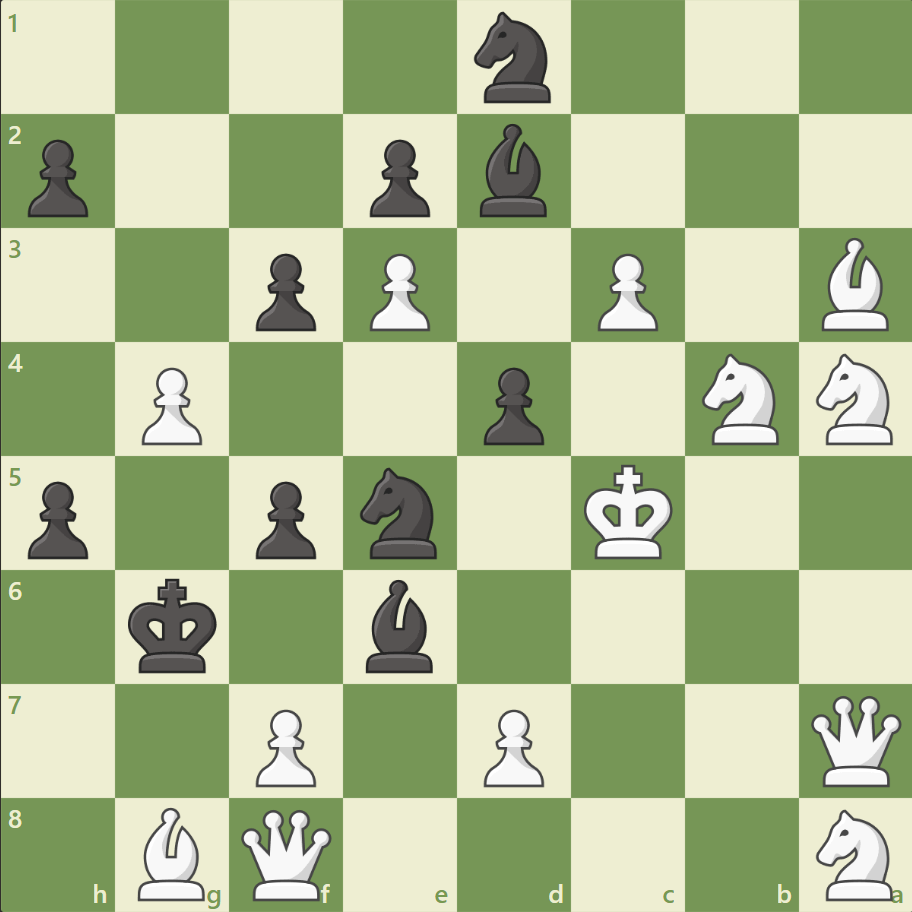B: (131, 801, 215, 904), (812, 233, 896, 336)
K: (579, 458, 679, 566)
N: (806, 802, 903, 904), (806, 348, 903, 450), (692, 348, 789, 450)
P: (474, 700, 549, 791), (247, 700, 322, 791), (133, 359, 208, 450), (588, 246, 662, 337), (361, 246, 435, 337)
Q: (237, 804, 336, 903), (805, 690, 904, 789)
b: (358, 574, 442, 676), (471, 120, 555, 222)
k: (124, 571, 224, 679)
n: (351, 461, 449, 564), (465, 7, 562, 110)
p: (247, 473, 322, 564), (20, 473, 95, 564), (474, 359, 549, 450), (247, 246, 322, 337), (20, 132, 95, 223), (361, 132, 435, 223)
